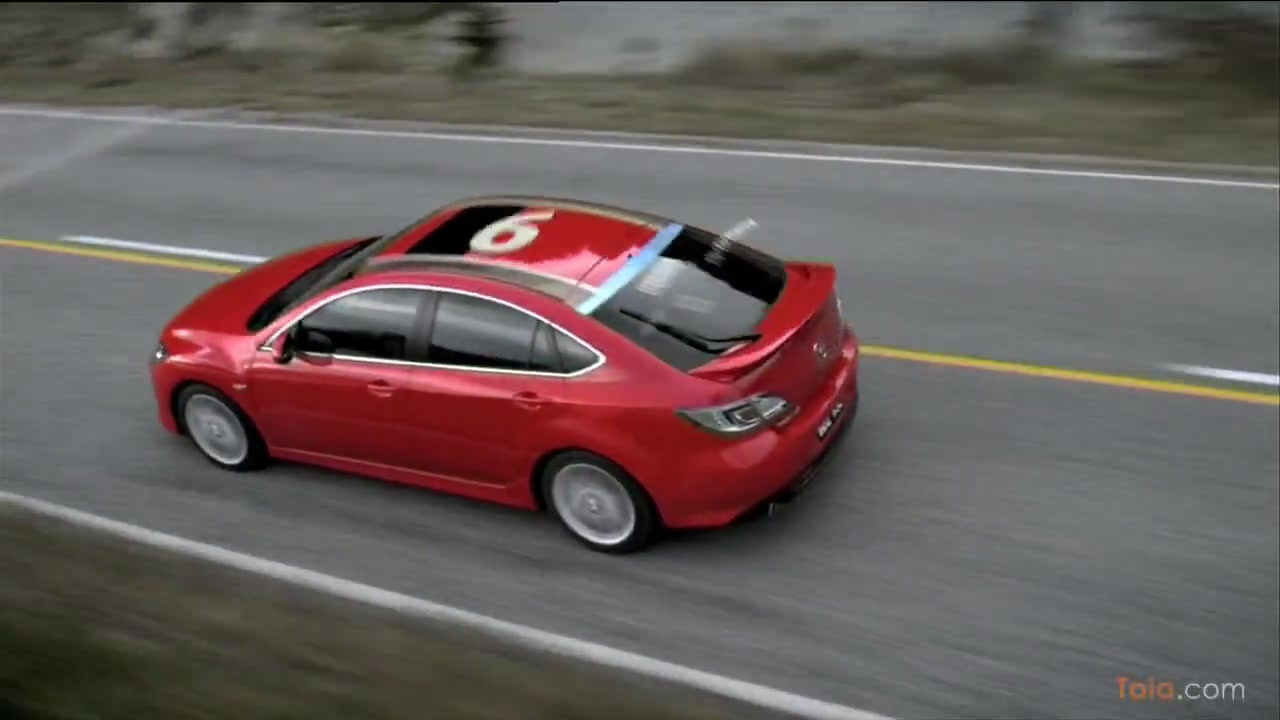car: (152, 191, 863, 557)
